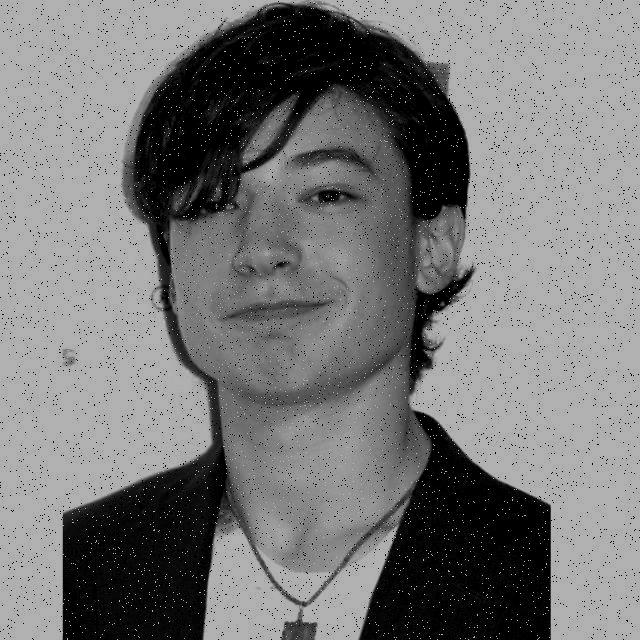real: (162, 100, 424, 410)
